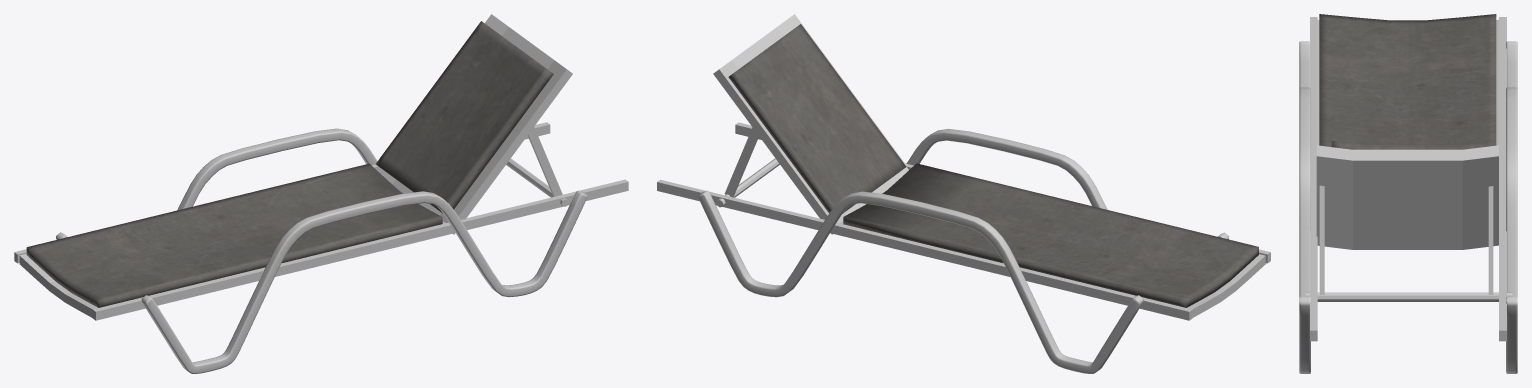
File: PoolChair005.fbx
3 views of the same model, side by side, from view 1: azimuth 30°, elevation 25°; view 2: azimuth 150°, elevation 25°; view 3: azimuth 270°, elevation 25° (orthographic). The views are drawn at different scales.
Visible parts, largest first — view 1: PoolChair.006; view 2: PoolChair.006; view 3: PoolChair.006.
Part boxes in pixels (<box>): PoolChair.006: <box>14,14,628,373</box>; PoolChair.006: <box>657,14,1270,373</box>; PoolChair.006: <box>1299,14,1517,373</box>.
Size of the model in its own units: 213 by 79.76 by 62.67.
